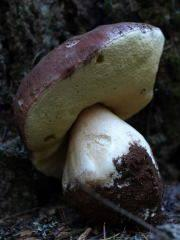edible_mushroom: (15, 21, 169, 213)
